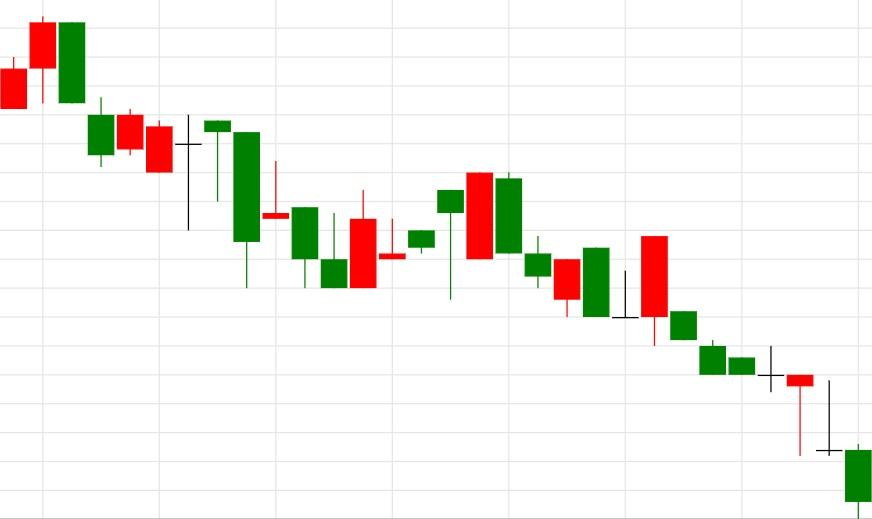bullish_engulfing_rise: (204, 120, 378, 289)
morning_star_rise: (465, 172, 669, 346)
